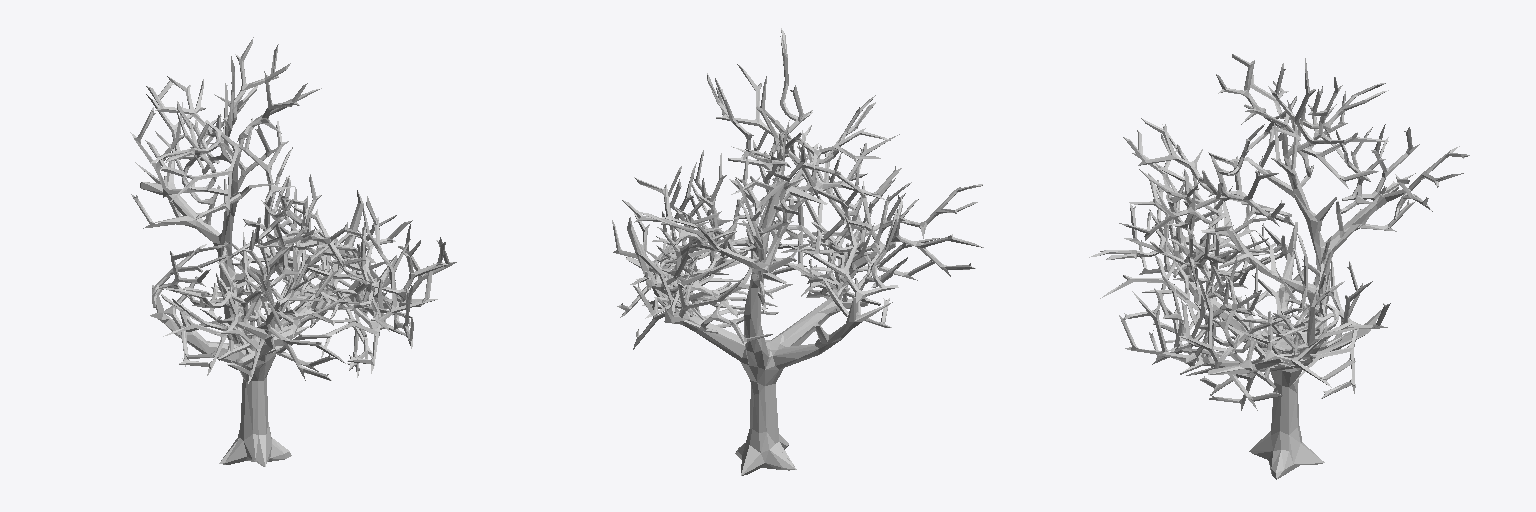
File: treetrunk.obj
3 renders of one model, left to right at view 1: azimuth 30°, elevation 25°; view 2: azimuth 150°, elevation 25°; view 3: azimuth 270°, elevation 25°, orthographic.
Parts seen in each view (by area): view 1: Baum_1.001_Cube.001; view 2: Baum_1.001_Cube.001; view 3: Baum_1.001_Cube.001.
Part boxes in pixels (x1,y1,x2,y2): Baum_1.001_Cube.001: (130,37,456,466); Baum_1.001_Cube.001: (612,28,983,475); Baum_1.001_Cube.001: (1089,54,1469,479).
Bounding box in the file's own units: 6.8 × 8.66 × 7.17.